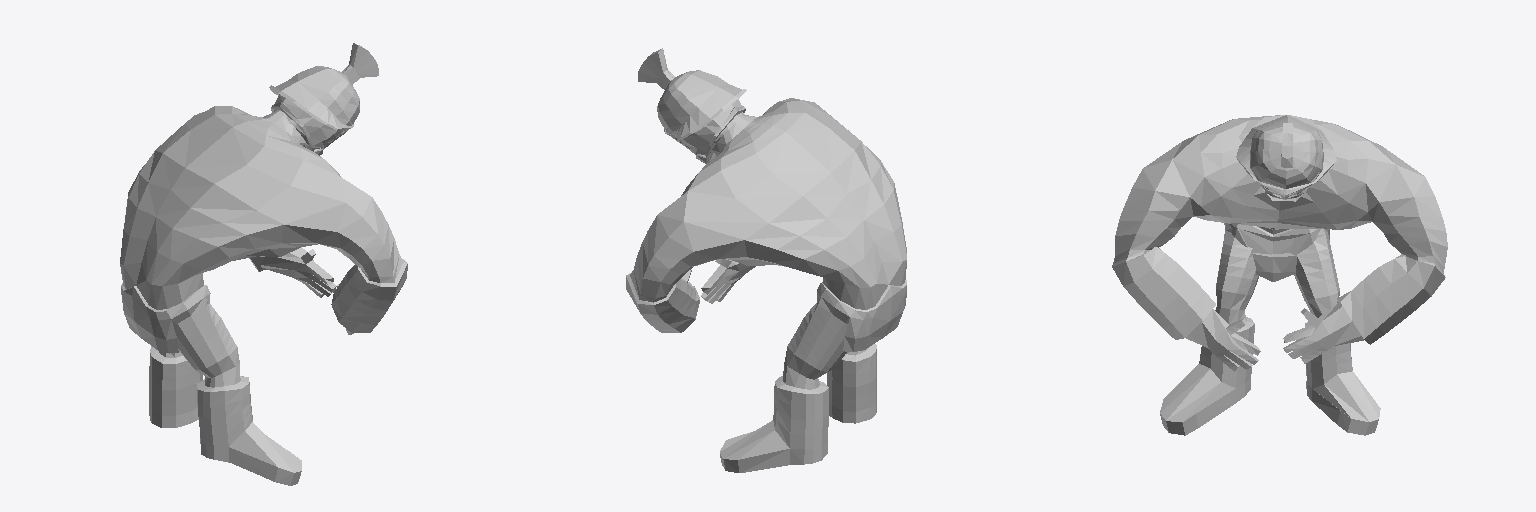
File: GladiatorCelebracion_000201.obj
3 views of the same model, side by side, from view 1: azimuth 30°, elevation 25°; view 2: azimuth 150°, elevation 25°; view 3: azimuth 270°, elevation 25° (orthographic).
Visible parts, largest first — view 1: Cube_Cube.001; view 2: Cube_Cube.001; view 3: Cube_Cube.001.
Boxes of the visible parts, <box> form: Cube_Cube.001: <box>120,43,407,485</box>; Cube_Cube.001: <box>626,48,906,472</box>; Cube_Cube.001: <box>1112,115,1447,435</box>.
Size of the model in its own units: 3.2 by 4.52 by 3.74.